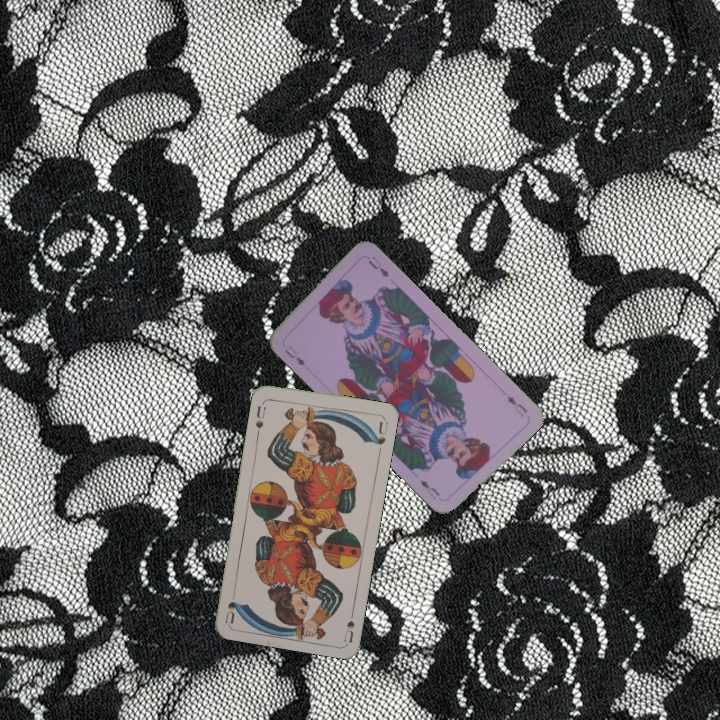EU: (281, 341, 308, 369), (503, 392, 530, 420)
SU: (340, 603, 357, 644), (251, 402, 268, 437)
